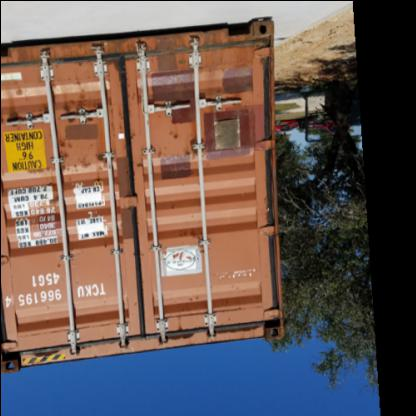Damage: (202, 24, 267, 70), (57, 136, 106, 172), (154, 130, 194, 168), (142, 35, 184, 71), (4, 78, 30, 132)
